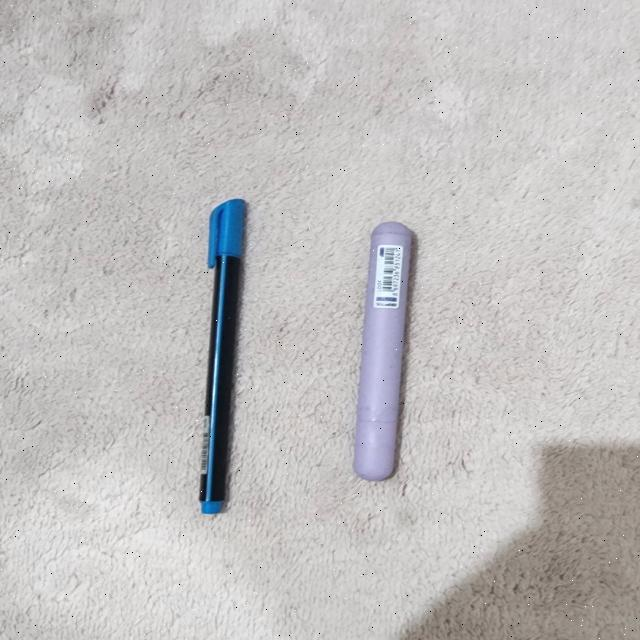kalem1: (198, 197, 245, 515)
kalem2: (352, 221, 413, 481)
